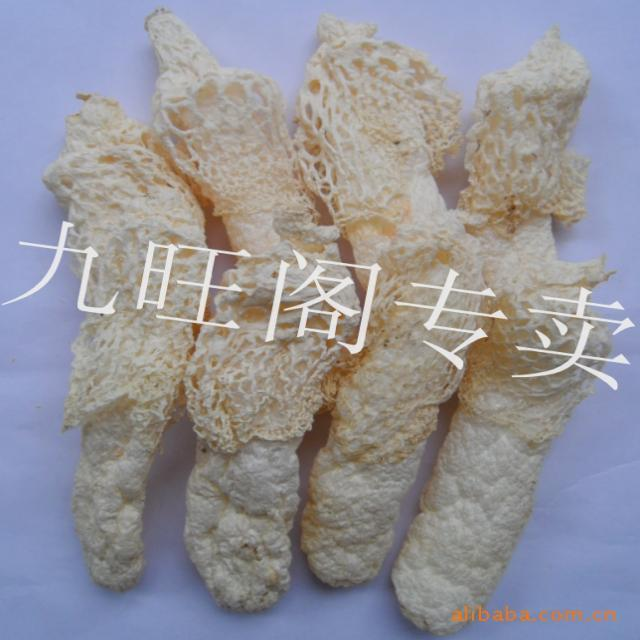Dictyophora indusiate: (395, 32, 613, 629), (142, 14, 347, 608), (290, 22, 483, 584), (45, 94, 214, 586)
